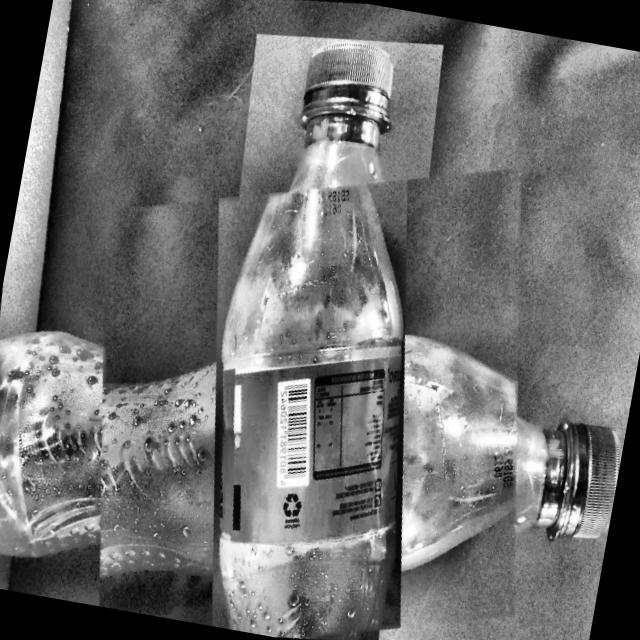Plastic-Bottle: (41, 110, 580, 640)
